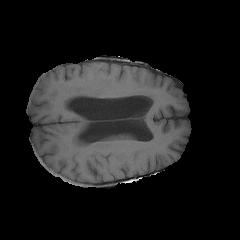glioma: (58, 77, 156, 108)
